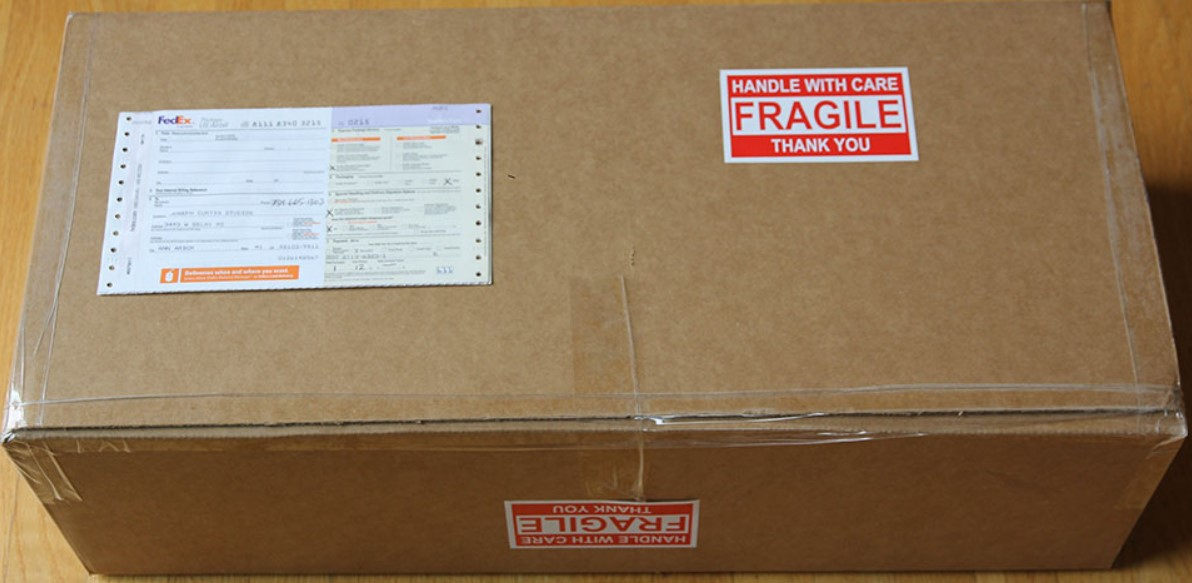stock: (7, 7, 1185, 574)
